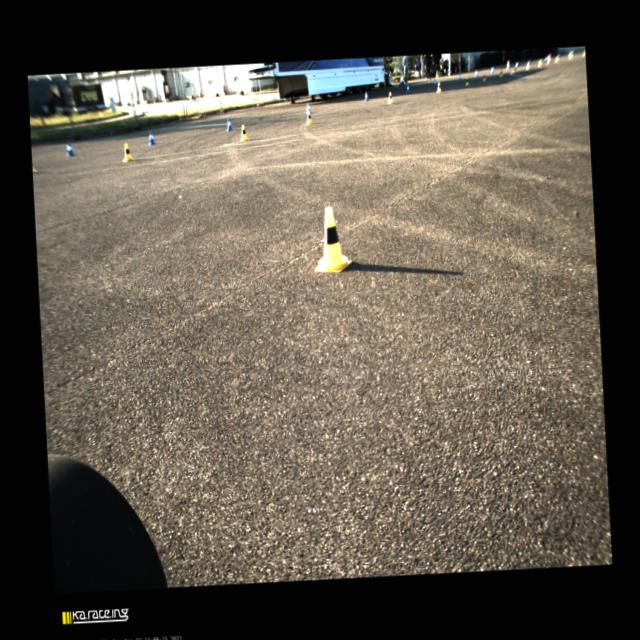blue_cone: (148, 130, 156, 145), (66, 142, 74, 156), (225, 118, 232, 130), (306, 102, 312, 114), (364, 92, 369, 102), (406, 84, 410, 92), (458, 74, 462, 82), (474, 70, 478, 78), (491, 66, 494, 74), (434, 79, 436, 86)
large_orange_cone: (506, 60, 510, 70)
yellow_cone: (312, 206, 352, 274), (122, 143, 134, 162), (239, 125, 248, 142), (306, 112, 312, 125), (387, 92, 393, 104), (436, 82, 442, 93), (464, 78, 468, 86), (482, 75, 486, 82), (499, 70, 503, 77)
